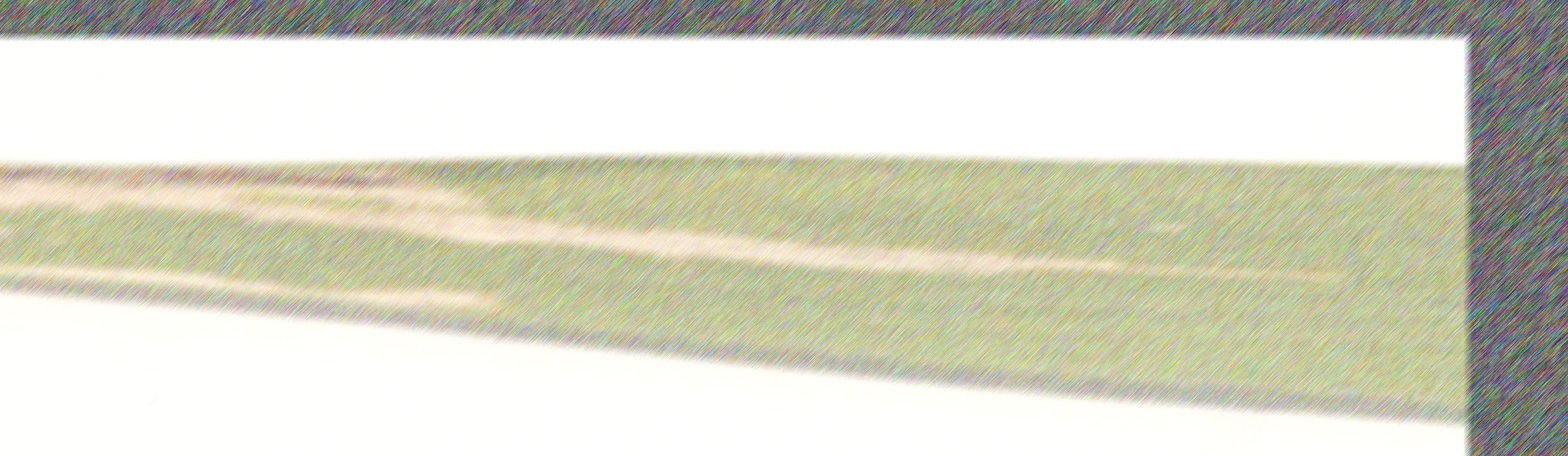Leaf_Blast: (0, 134, 1369, 338)
